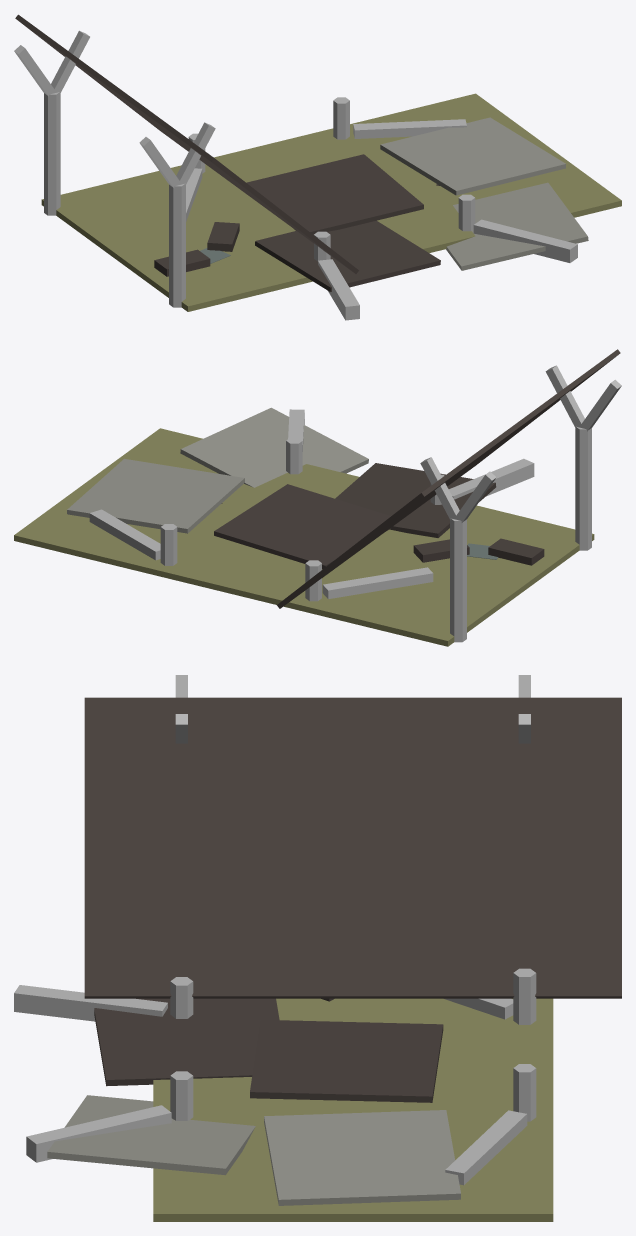
File: SM_MarquesinaBus_v4_Quemada_e2_MuyDanado_LOD1.fbx
3 renders of one model, top to bottom at view 1: azimuth 30°, elevation 25°; view 2: azimuth 150°, elevation 25°; view 3: azimuth 270°, elevation 25°, orthographic. The views are drawn at different scales.
Parts seen in each view (by area): view 1: SM_marquesina_bus_v18_LOD1; view 2: SM_marquesina_bus_v18_LOD1; view 3: SM_marquesina_bus_v18_LOD1.
Boxes of the visible parts, x1,y1,x2,y2 form: SM_marquesina_bus_v18_LOD1: (14, 14, 621, 320); SM_marquesina_bus_v18_LOD1: (14, 349, 621, 646); SM_marquesina_bus_v18_LOD1: (14, 675, 621, 1221).
Bounding box in the file's own units: 12.99 × 4.63 × 10.63.
